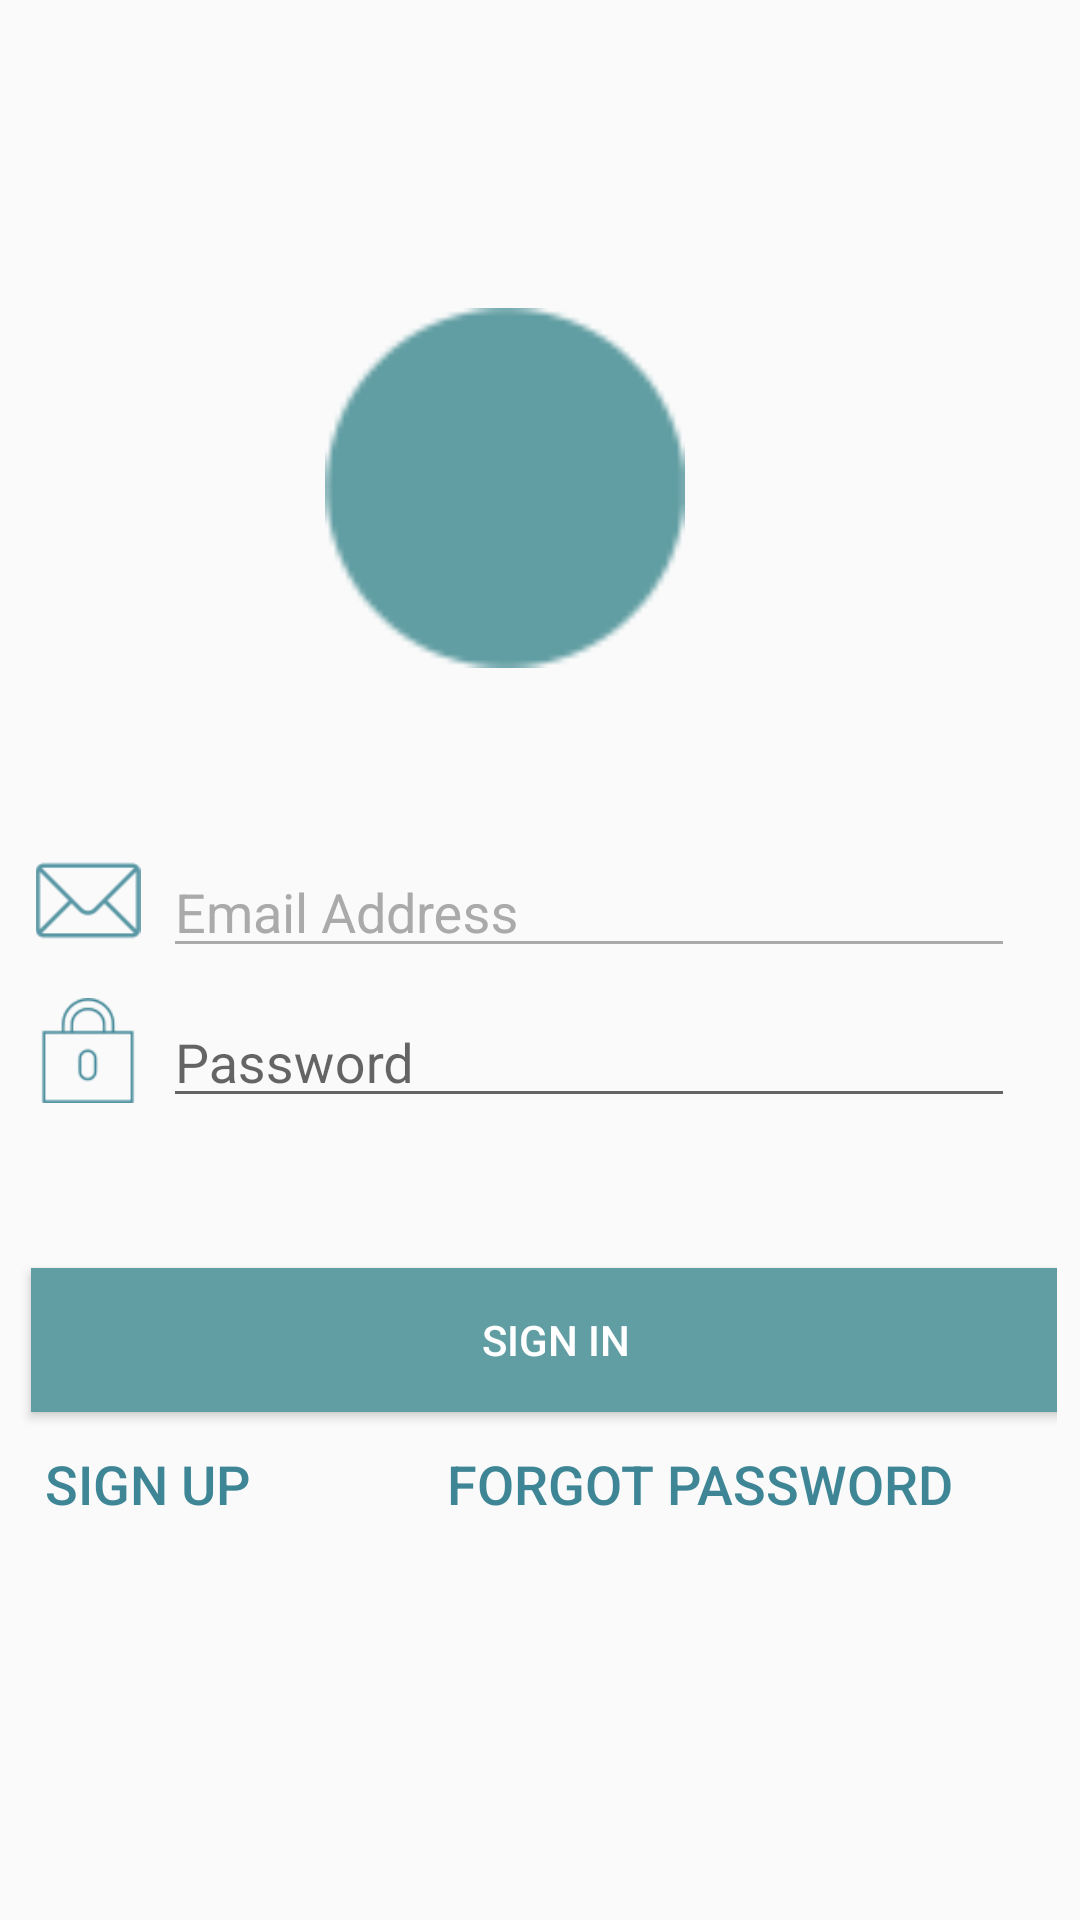

Where icons sit on this 1080 × 1920 app screen, as (x1, y1, x2, y2):
lock: (42, 998, 134, 1103)
